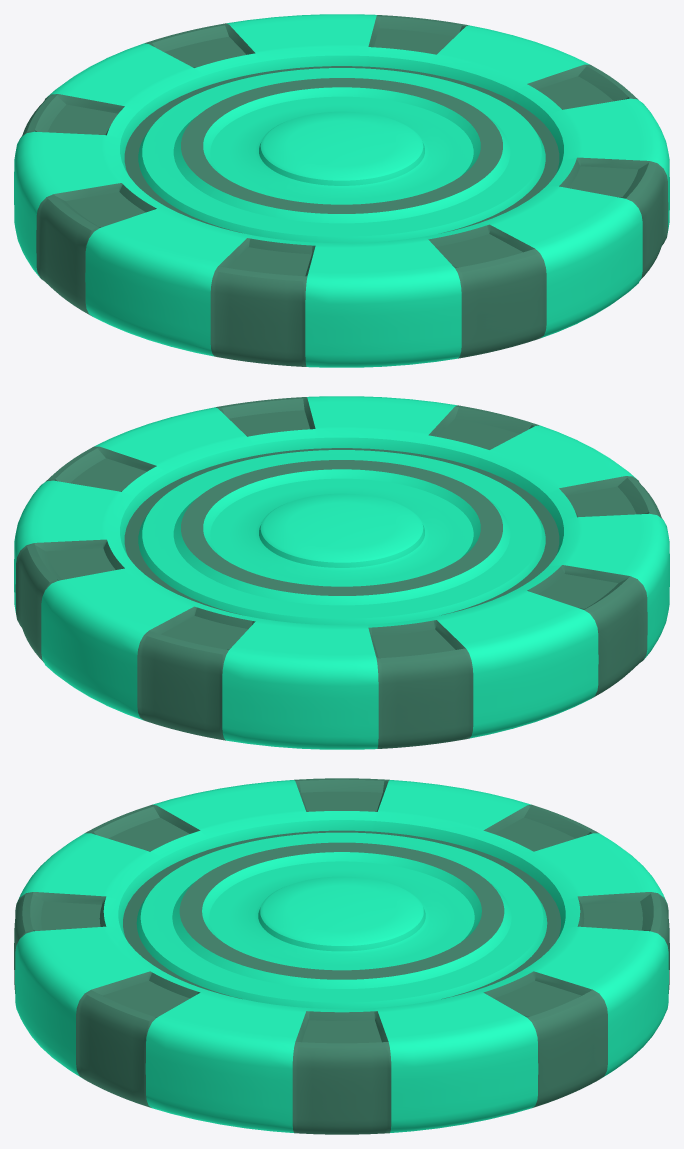
The model's file is PokerChip_Green.glb.
3 views of the same model, one above another, from view 1: azimuth 30°, elevation 25°; view 2: azimuth 150°, elevation 25°; view 3: azimuth 270°, elevation 25° (orthographic).
Visible parts, largest first — view 1: PokerChip_Green; view 2: PokerChip_Green; view 3: PokerChip_Green.
Boxes of the visible parts, box(x1,y1,x2,y2) form: PokerChip_Green: box(14, 14, 669, 367); PokerChip_Green: box(14, 396, 669, 749); PokerChip_Green: box(14, 778, 669, 1134).
Bounding box in the file's own units: 1.98 × 0.324 × 1.98.
